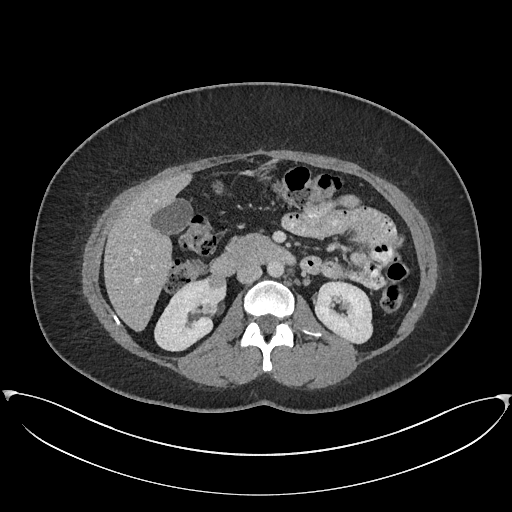Lesion: (204, 273, 229, 294)
